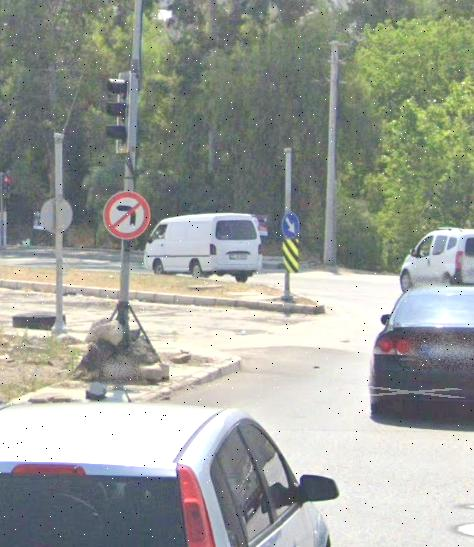leftturnsareforbidden: (105, 195, 149, 241)
